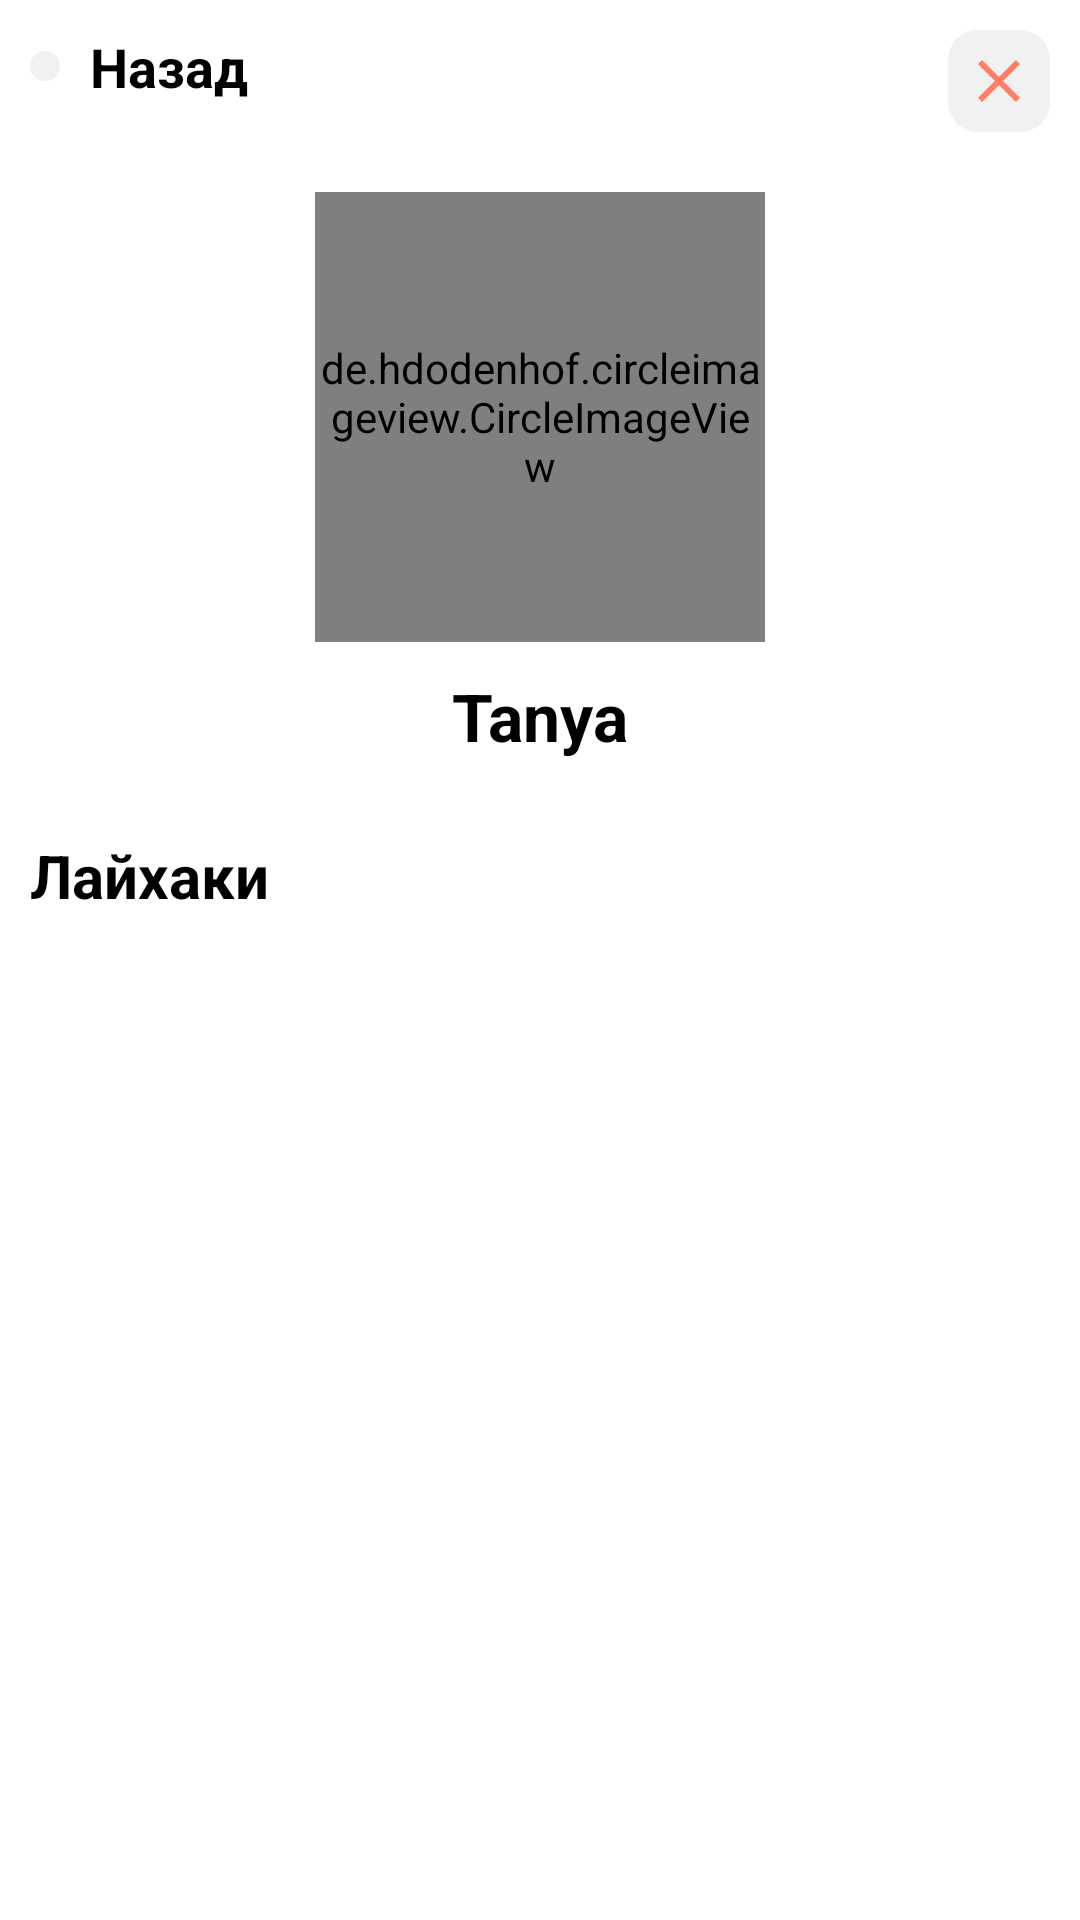

Screen size 1080px×1920px. Icon name, then its box in pixels as (x1, y1, x2, y2):
close: (948, 30, 1050, 132)
